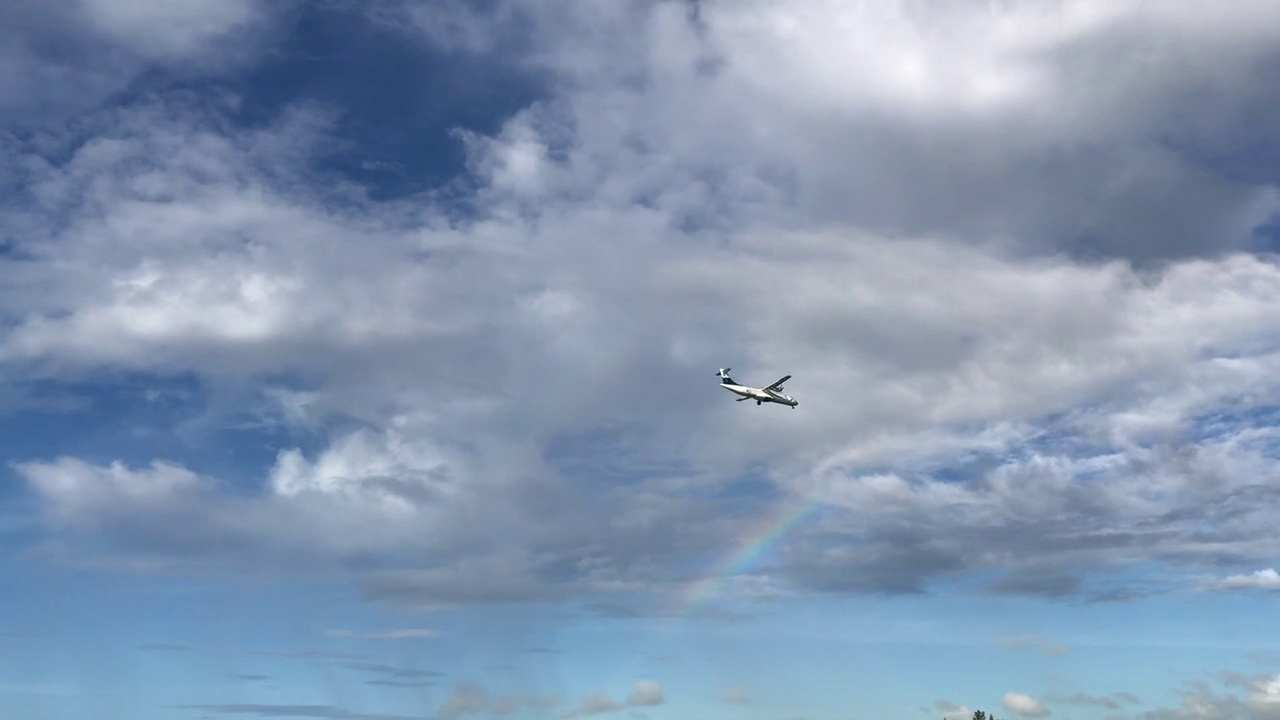plane: (714, 365, 798, 408)
